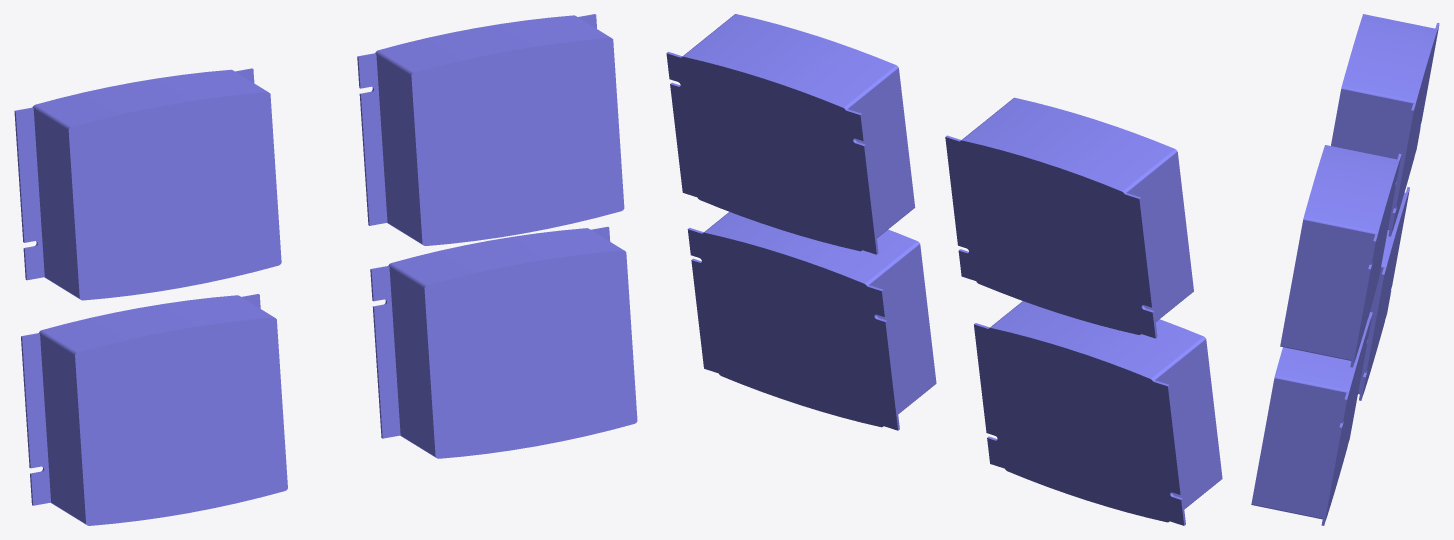
File: POWER ARCHITECTURE__ELEC BOARD COMPONENTS__MPPT250_70-Tr solar charge controller.glb
3 renders of one model, left to right at view 1: azimuth 30°, elevation 25°; view 2: azimuth 150°, elevation 25°; view 3: azimuth 270°, elevation 25°, orthographic. The views are drawn at different scales.
Parts seen in each view (by area): view 1: MPPT250/70-Tr solar charge controller; view 2: MPPT250/70-Tr solar charge controller; view 3: MPPT250/70-Tr solar charge controller.
Boxes of the visible parts, box(x1,y1,x2,y2) form: MPPT250/70-Tr solar charge controller: box(14, 14, 637, 525); MPPT250/70-Tr solar charge controller: box(666, 14, 1222, 525); MPPT250/70-Tr solar charge controller: box(1251, 14, 1439, 525).
Bounding box in the file's own units: 0.6221 × 0.421 × 0.2259.
